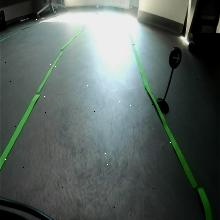right: (168, 46, 182, 69)
